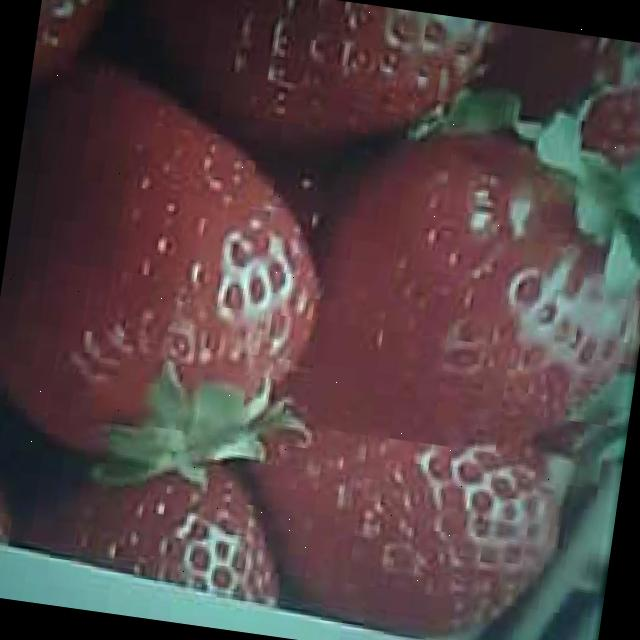strawberry: (0, 55, 345, 482), (287, 111, 640, 475)
